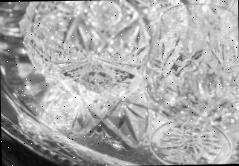glass: (19, 0, 189, 102), (146, 3, 239, 165)
